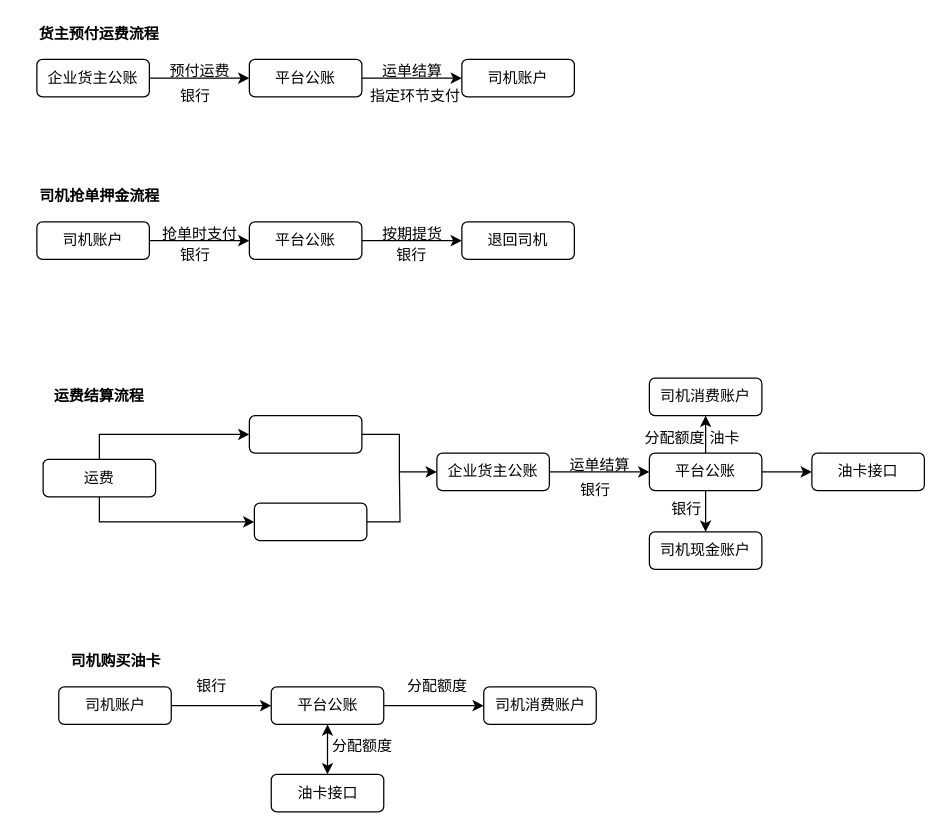
Image size: 946x834. Some labels were removed from this diagram. Each missing label, with the centre of its shape:
"指定油卡" goes at point (305, 433).
"指定现金" goes at point (310, 521).
